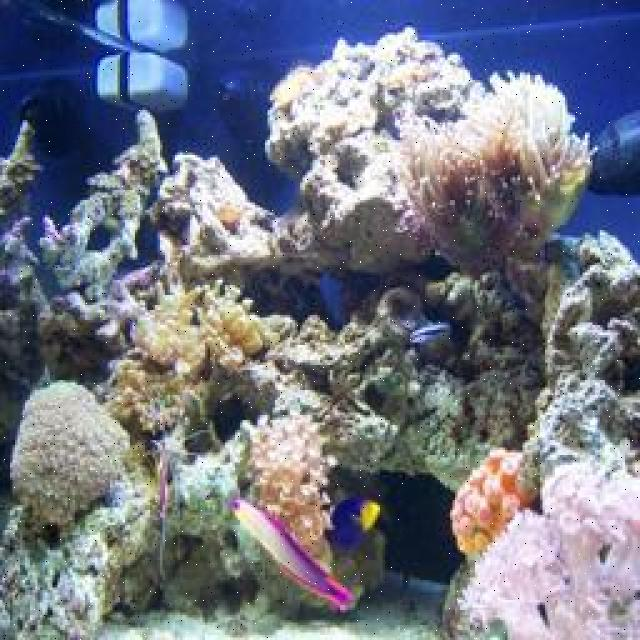fish: (231, 495, 359, 611), (321, 494, 381, 547)
reefs: (0, 26, 487, 436), (372, 70, 597, 278)
